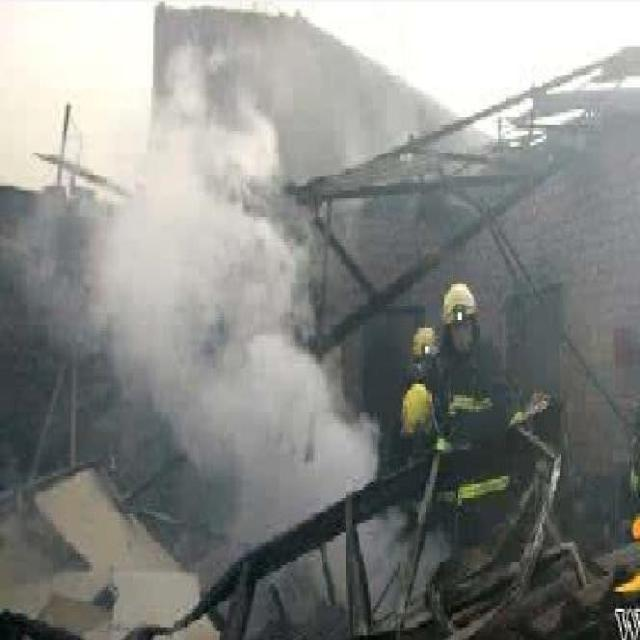Fire: (616, 572, 640, 594), (631, 515, 640, 542)
Smoke: (12, 41, 450, 620), (476, 8, 640, 512)
